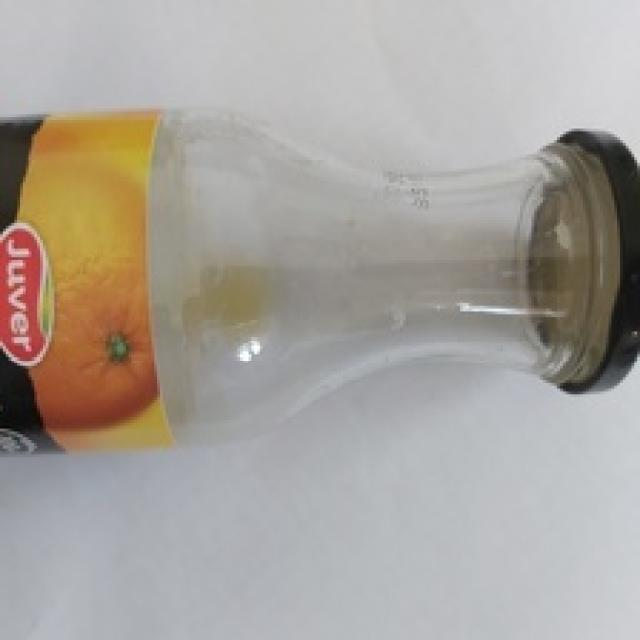Glass: (0, 108, 621, 461)
